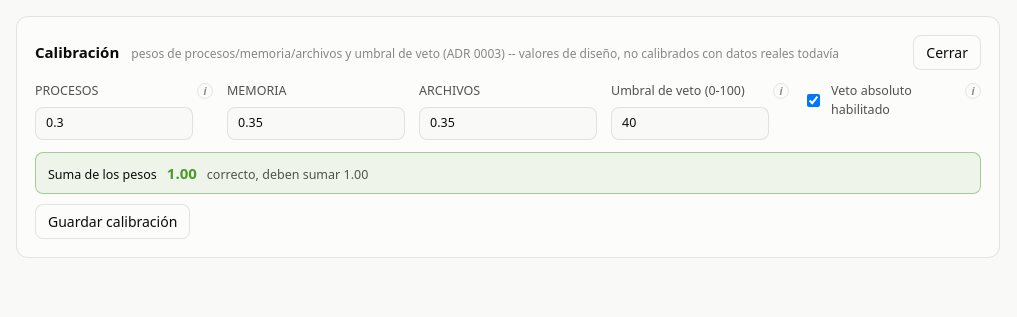
Test: CalibracionPanel › al pulsar Guardar con la suma mal, explica en vez de quedarse mudo
Replace the text in the number field labelled "PROCESOS" with "0.5" at x=114, y=123, box [35,107,193,140]
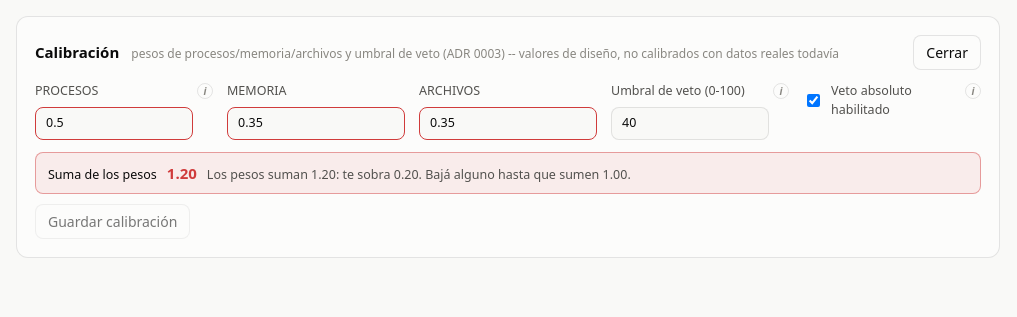
Click the button "Guardar calibración" at x=113, y=222, box [35,204,190,239]
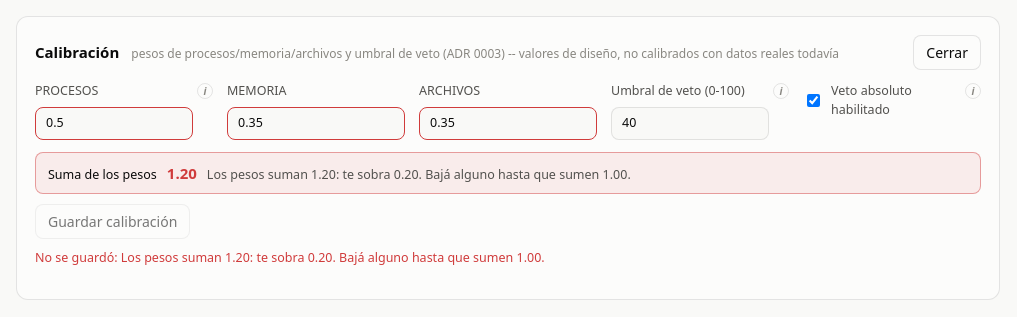
Expected: the text "No se guardó" is shown, [35,249,121,266]
